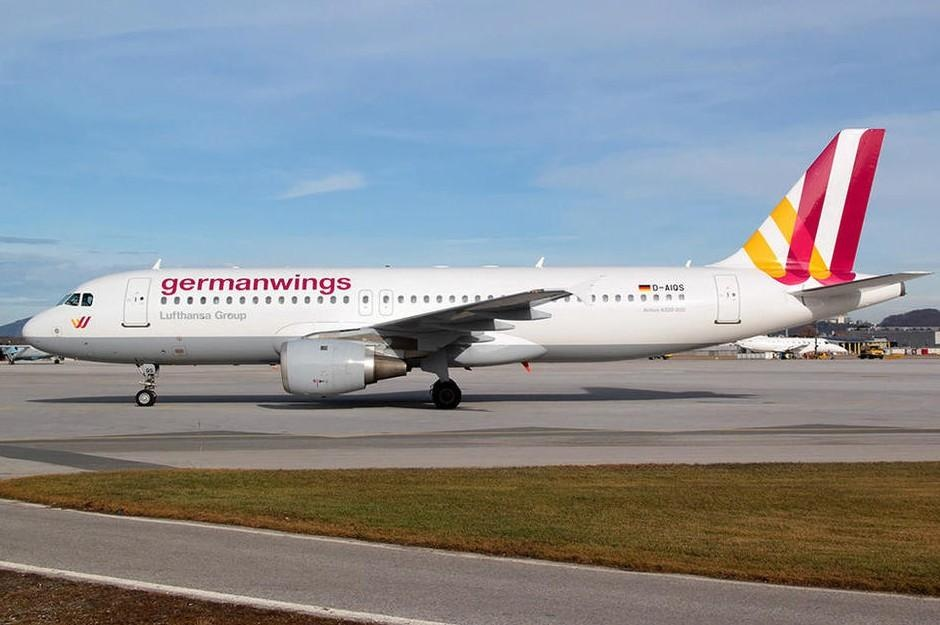airplane: (18, 123, 940, 408)
